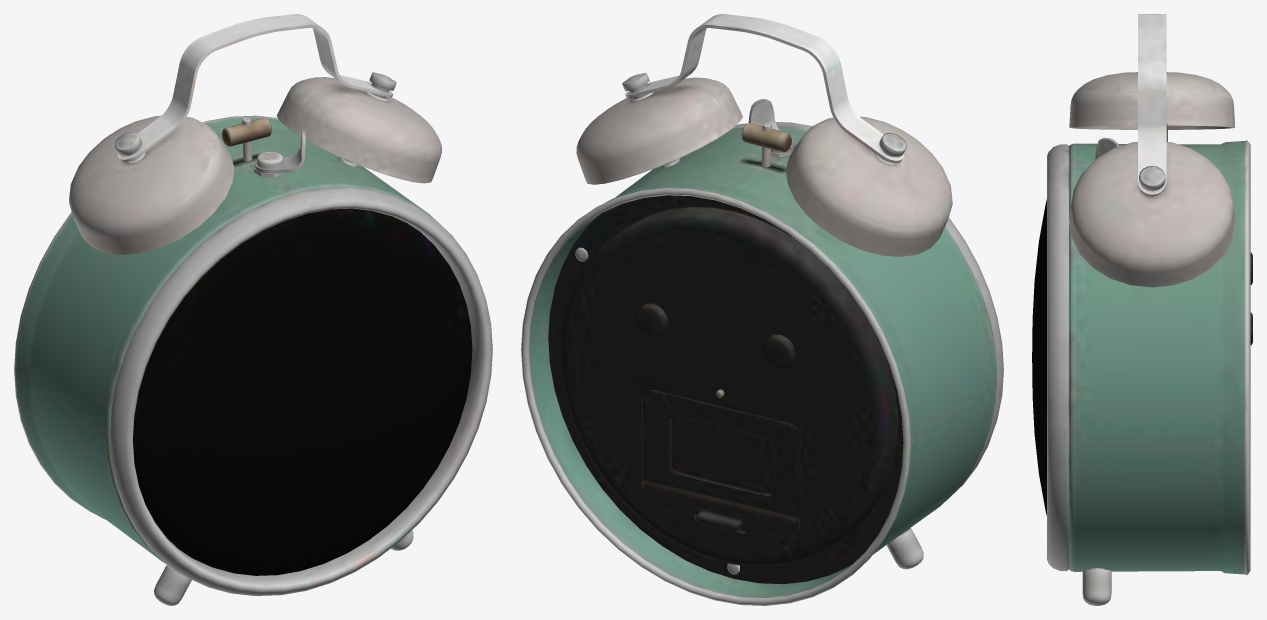
The model's file is alarm-clock.glb.
3 views of the same model, side by side, from view 1: azimuth 30°, elevation 25°; view 2: azimuth 150°, elevation 25°; view 3: azimuth 270°, elevation 25° (orthographic). The views are drawn at different scales.
Visible parts, largest first — view 1: Cylinder.030; view 2: Cylinder.030; view 3: Cylinder.030.
Boxes of the visible parts, x1=… form: Cylinder.030: x1=14, y1=14, x2=492, y2=605; Cylinder.030: x1=521, y1=14, x2=1003, y2=605; Cylinder.030: x1=1032, y1=14, x2=1252, y2=605.
Size of the model in its own units: 0.1317 by 0.1742 by 0.0667.
Materials: 2 (2 with a texture image).
